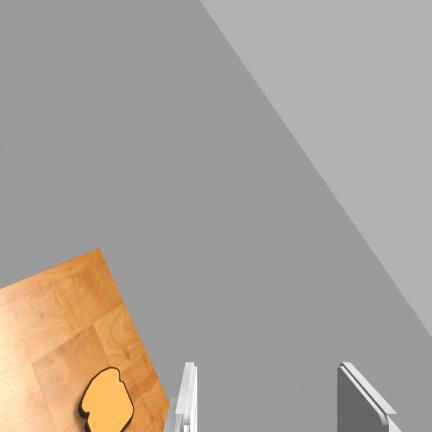sliced_bread: (79, 367, 134, 431)
